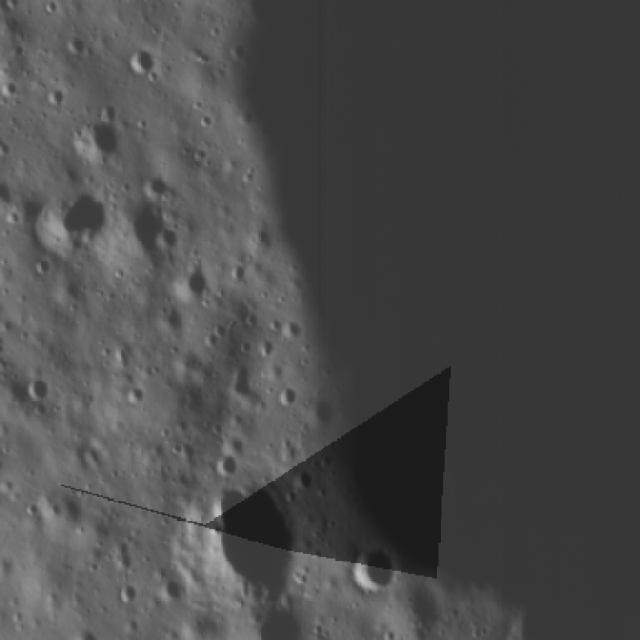crater: (187, 484, 310, 624), (32, 184, 116, 256), (116, 195, 186, 270), (348, 544, 402, 602), (40, 480, 94, 532), (73, 122, 124, 167), (170, 266, 215, 305), (226, 359, 260, 406), (268, 311, 312, 347), (122, 44, 160, 82), (138, 170, 174, 202), (155, 302, 187, 336), (96, 93, 127, 125), (156, 575, 187, 607), (20, 373, 54, 402), (60, 30, 91, 61), (268, 382, 300, 411), (152, 226, 182, 256), (117, 384, 151, 410), (43, 84, 68, 110), (228, 260, 252, 286), (113, 580, 141, 602), (27, 397, 53, 420), (31, 254, 55, 277), (3, 205, 25, 229), (192, 110, 214, 133), (254, 332, 272, 358), (3, 78, 19, 99)
